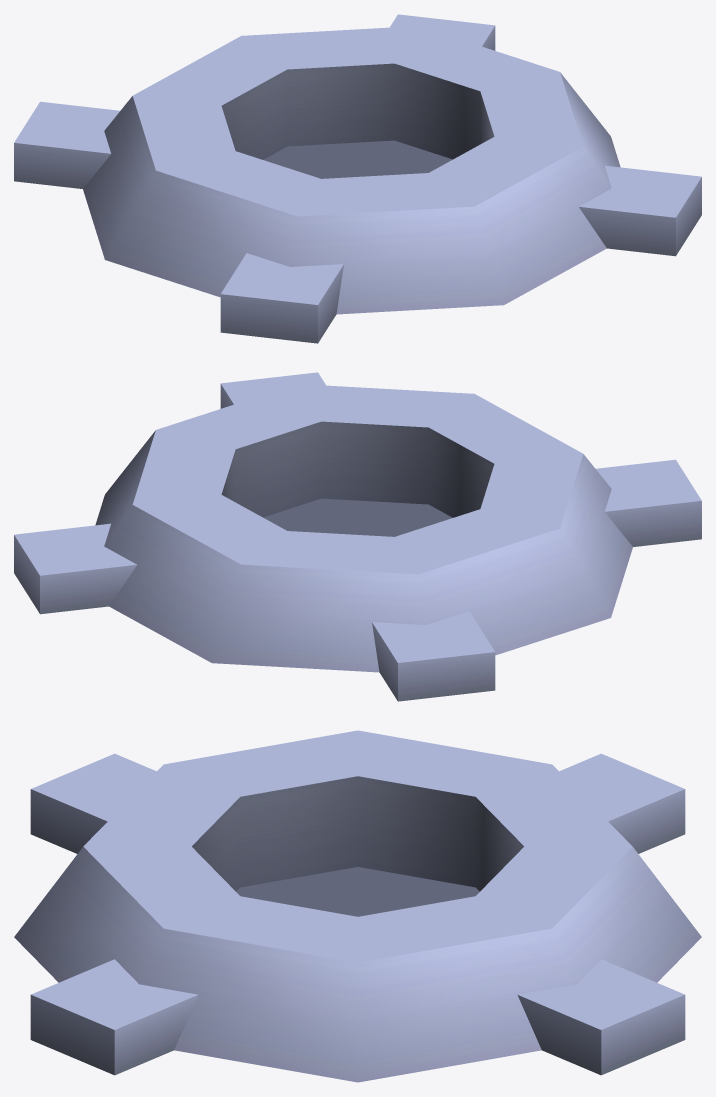
The model's file is kenney-tower-defense-spawn-round.glb.
3 views of the same model, one above another, from view 1: azimuth 30°, elevation 25°; view 2: azimuth 150°, elevation 25°; view 3: azimuth 270°, elevation 25° (orthographic). The views are drawn at different scales.
Parts seen in each view (by area): view 1: spawn-round; view 2: spawn-round; view 3: spawn-round.
Boxes of the visible parts, x1=… form: spawn-round: x1=14, y1=14, x2=701, y2=343; spawn-round: x1=14, y1=372, x2=701, y2=701; spawn-round: x1=14, y1=730, x2=701, y2=1082.
Bounding box in the file's own units: 0.6875 × 0.1 × 0.6875.
Materials: 1 (1 with a texture image).
